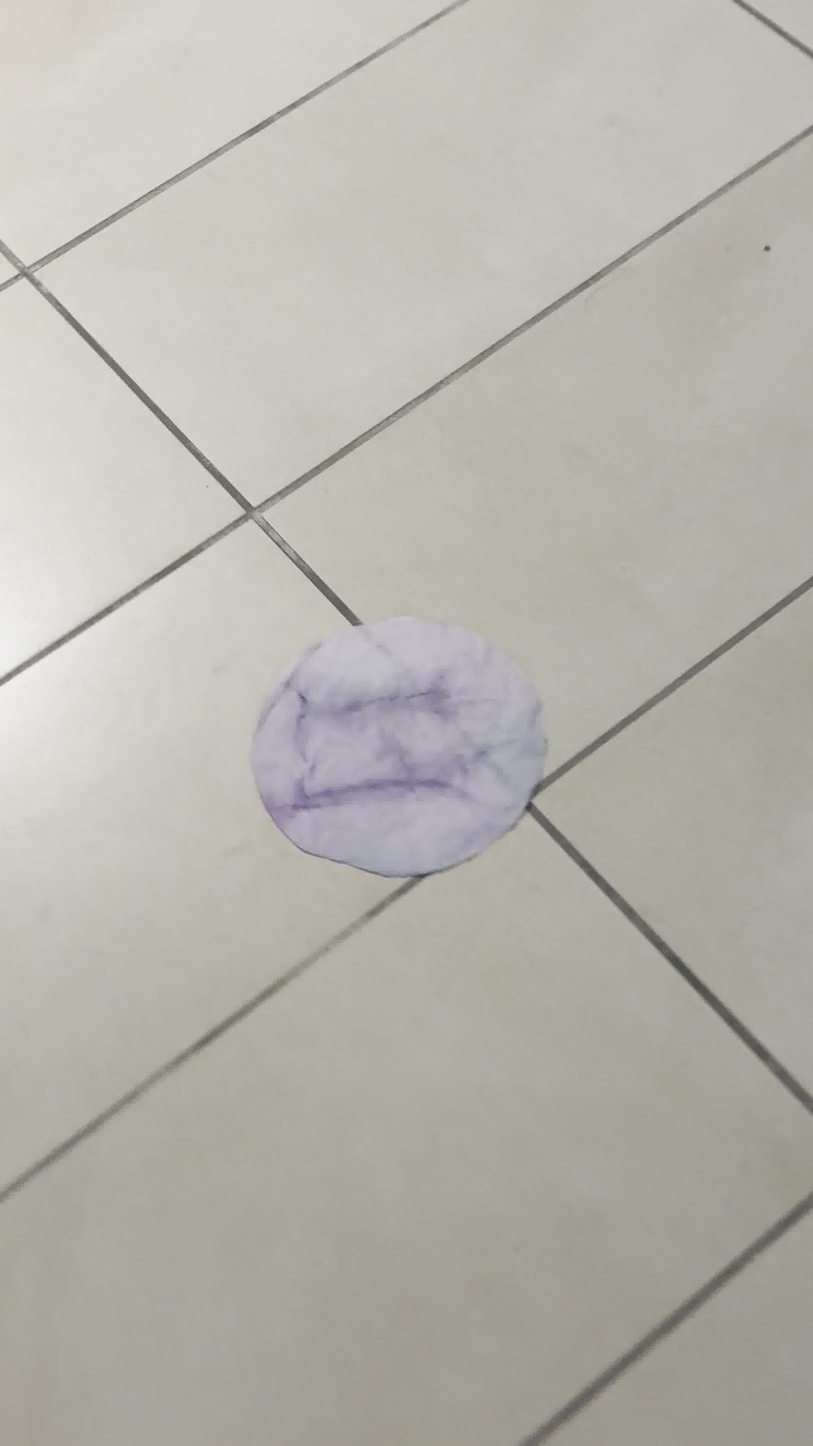Target: (250, 618, 545, 876)
